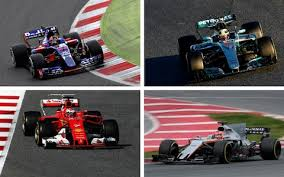FormulaOneCar: (171, 13, 280, 79), (18, 92, 127, 151), (150, 119, 283, 167), (9, 22, 108, 79)
